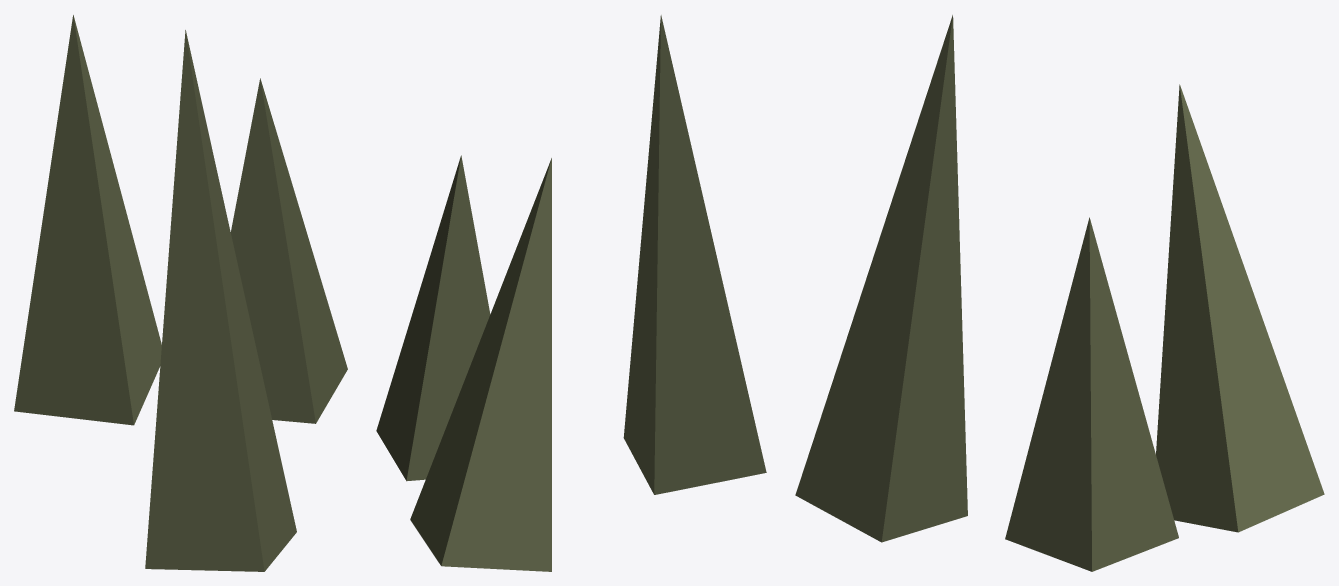
Rendered from weeds.glb.
3 views of the same model, side by side, from view 1: azimuth 30°, elevation 25°; view 2: azimuth 150°, elevation 25°; view 3: azimuth 270°, elevation 25° (orthographic). The views are drawn at different scales.
Parts seen in each view (by area): view 1: weed blade.002, weed blade.001, weed blade; view 2: weed blade.002, weed blade.001, weed blade; view 3: weed blade.002, weed blade.001, weed blade.
Boxes of the visible parts, x1,y1,x2,y2 form: weed blade.002: (145, 30, 296, 571); weed blade.001: (14, 15, 161, 425); weed blade: (230, 78, 347, 423); weed blade.002: (623, 15, 766, 494); weed blade.001: (410, 158, 551, 571); weed blade: (376, 155, 490, 481); weed blade.002: (795, 15, 967, 542); weed blade.001: (1156, 84, 1324, 532); weed blade: (1005, 217, 1178, 571).
Size of the model in its own units: 0.1423 by 0.2227 by 0.2128.
